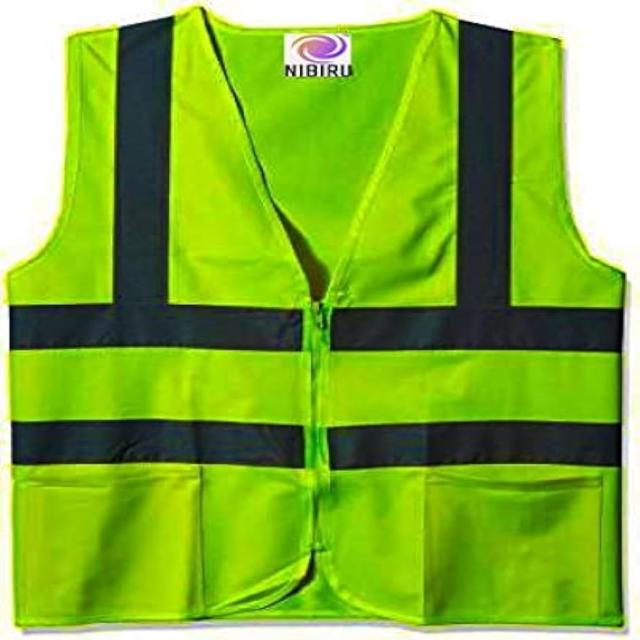safety_helmet: (25, 20, 623, 627)
